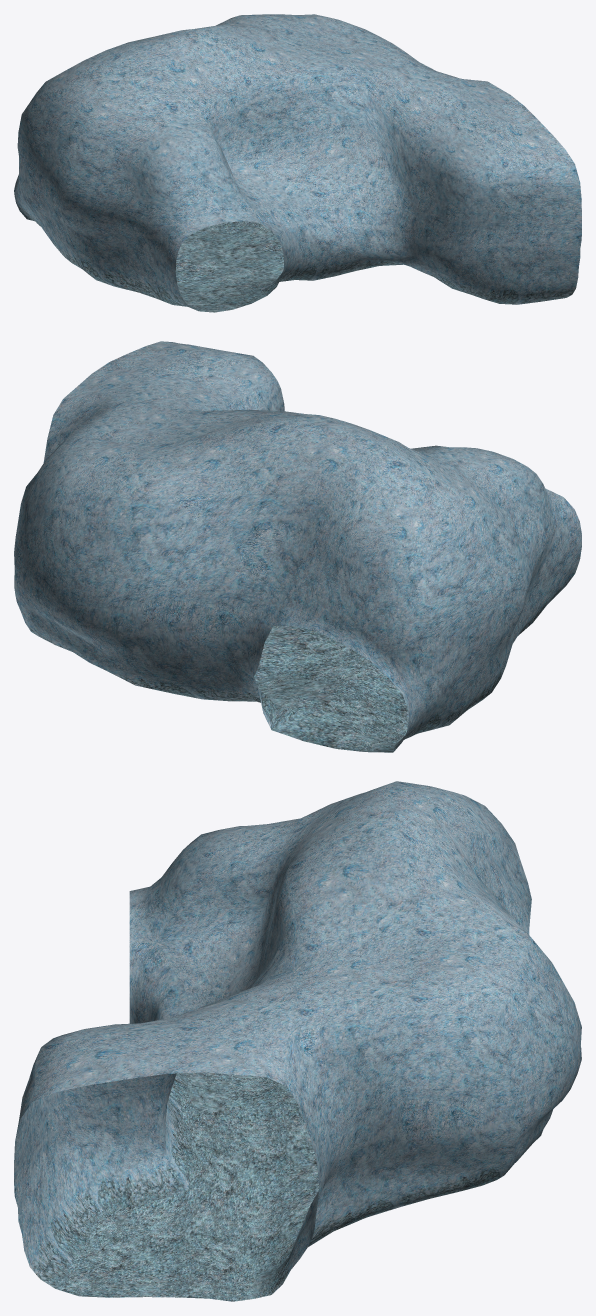
The model's file is thm_all_cave_flatland_s01_ice_r3_mesh_r3.fbx.
The picture shows the model from 3 angles, top to bottom: view 1: azimuth 30°, elevation 25°; view 2: azimuth 150°, elevation 25°; view 3: azimuth 270°, elevation 25°; orthographic projection. The views are drawn at different scales.
Visible parts, largest first — view 1: mesh_node; view 2: mesh_node; view 3: mesh_node.
Boxes of the visible parts, x1=… form: mesh_node: x1=14, y1=14, x2=581, y2=312; mesh_node: x1=14, y1=341, x2=581, y2=752; mesh_node: x1=14, y1=781, x2=581, y2=1301.
Bounding box in the file's own units: 51.47 × 30.23 × 47.83.
